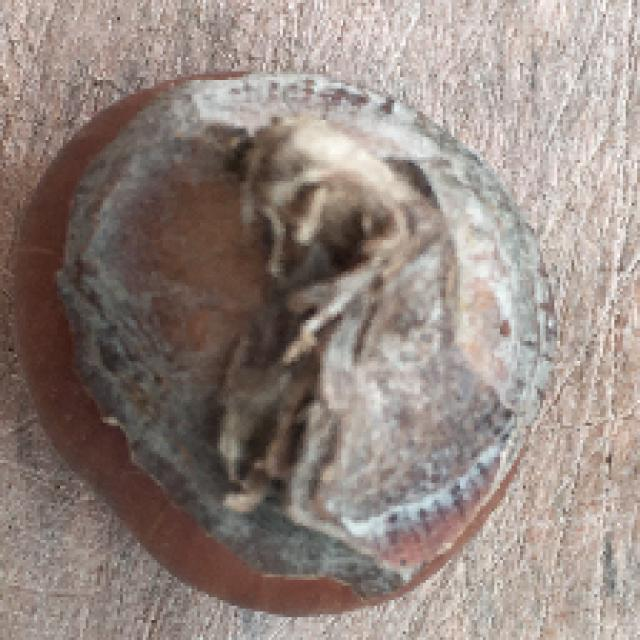DamagedHazelnut: (13, 66, 559, 613)
